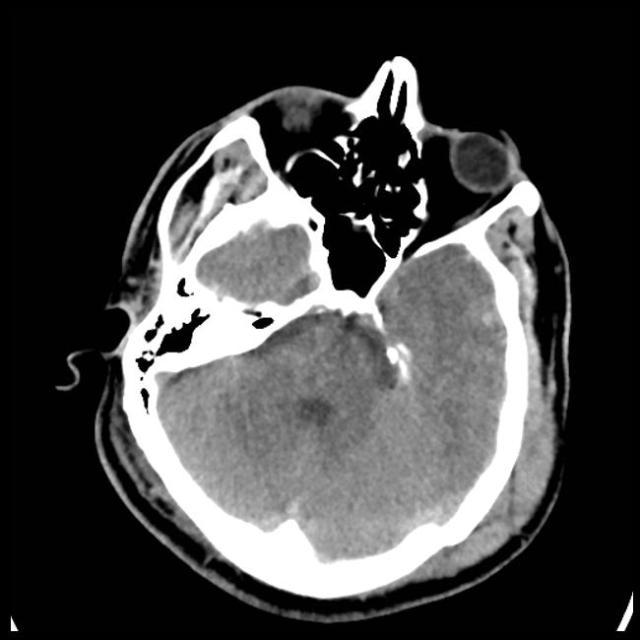lesion: (83, 54, 577, 616)
